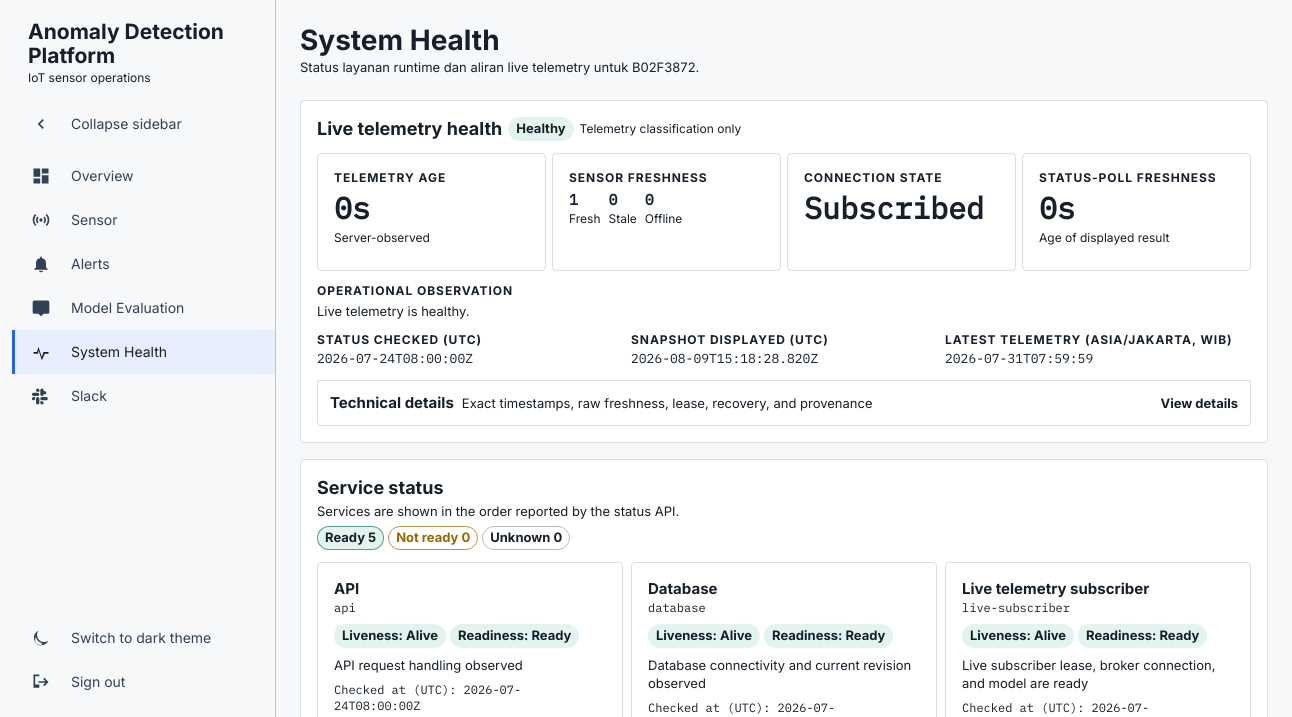
it: login › returns to the form when the session lapses mid-visit
Expected: the heading "System Health" is shown, [300,23,500,57]
What coordinates should you click on to do the following:
click the link "Alerts"
I would click on:
 (70, 264)
Its box is [31,254,110,274].
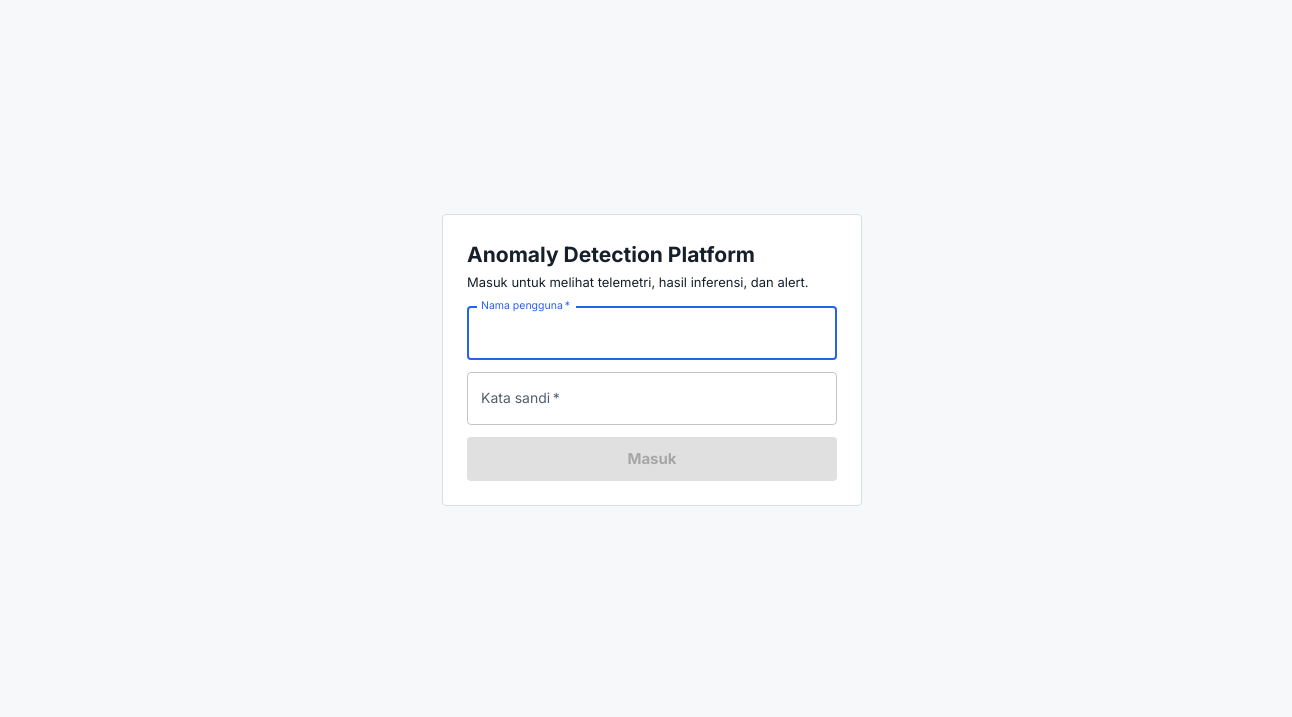
Expected: the field labelled "Nama pengguna *" is shown, [467,307,837,360]
